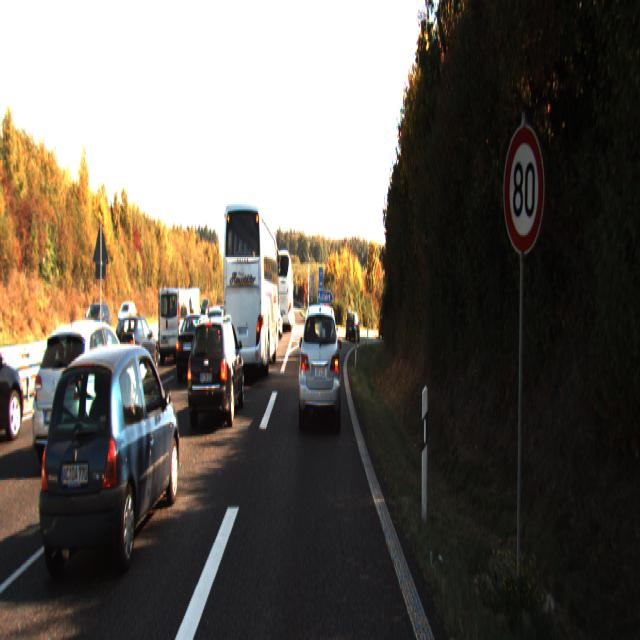Car: (34, 335, 182, 589), (29, 316, 139, 474), (221, 199, 279, 385), (185, 313, 245, 432), (297, 301, 342, 434), (0, 318, 28, 448), (110, 312, 160, 384), (157, 285, 195, 360), (275, 253, 294, 334), (344, 312, 360, 343)
